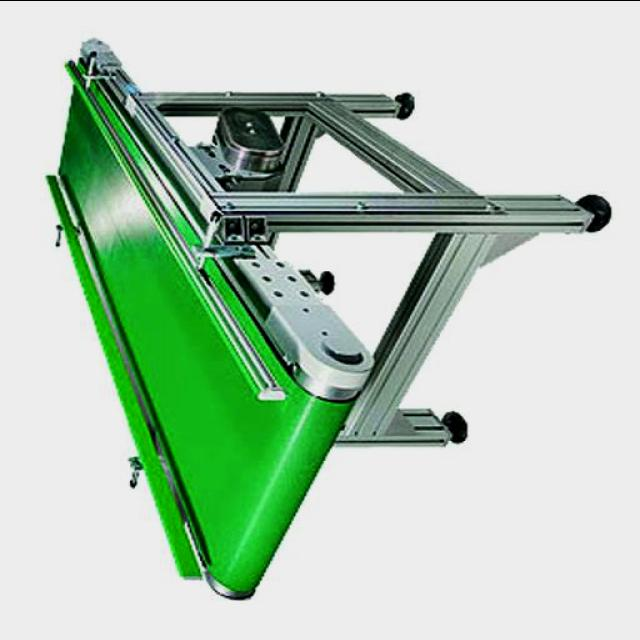conveyor: (58, 62, 357, 600)
